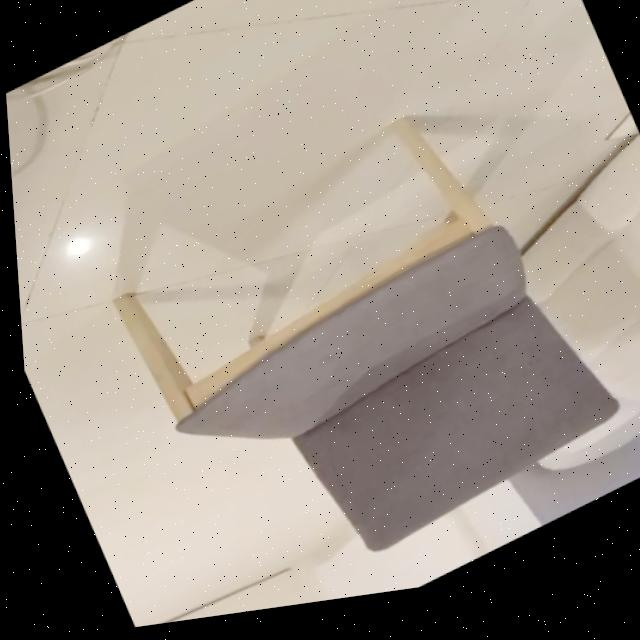sandalye: (108, 128, 610, 560)
